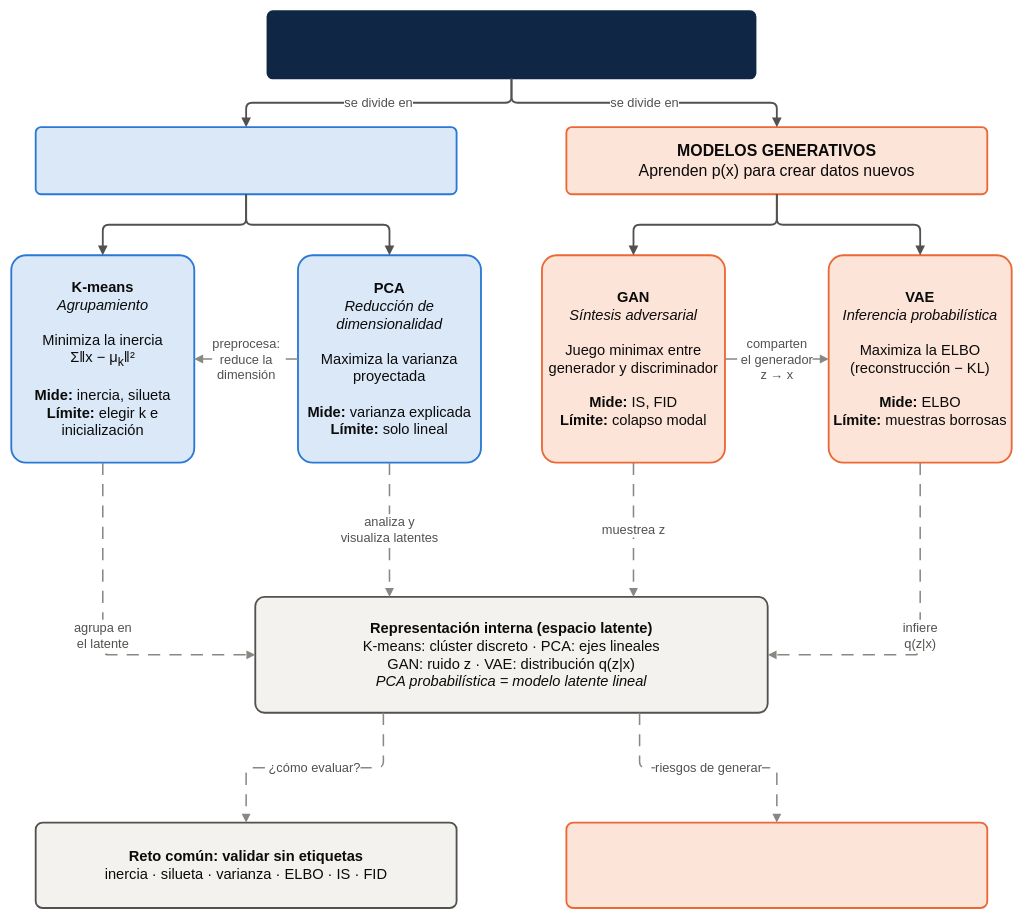
This 1023x919 diagram has some shape labels left out. Here are the shapes that lost their labels. From the top down, the box of each, then its label:
(266, 10, 756, 79): Aprendizaje sin etiquetas Solo se observa x; se estudia la estructura de p(x)
(34, 126, 457, 195): APRENDIZAJE NO SUPERVISADO Describe la estructura de los datos
(565, 821, 988, 909): Consideraciones éticas sesgo · deepfakes · privacidad · autoría
